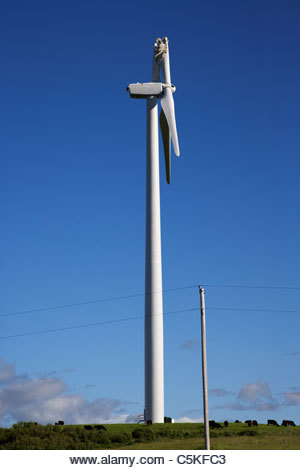faulty: (117, 32, 194, 198)
